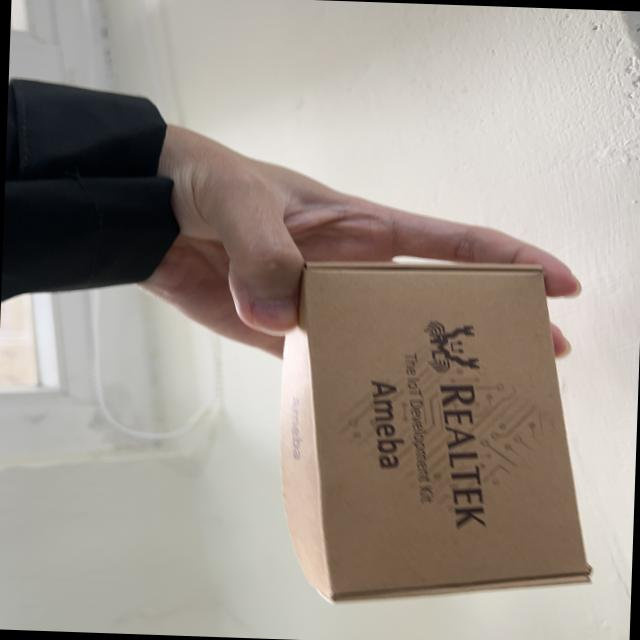box: (236, 229, 640, 624)
